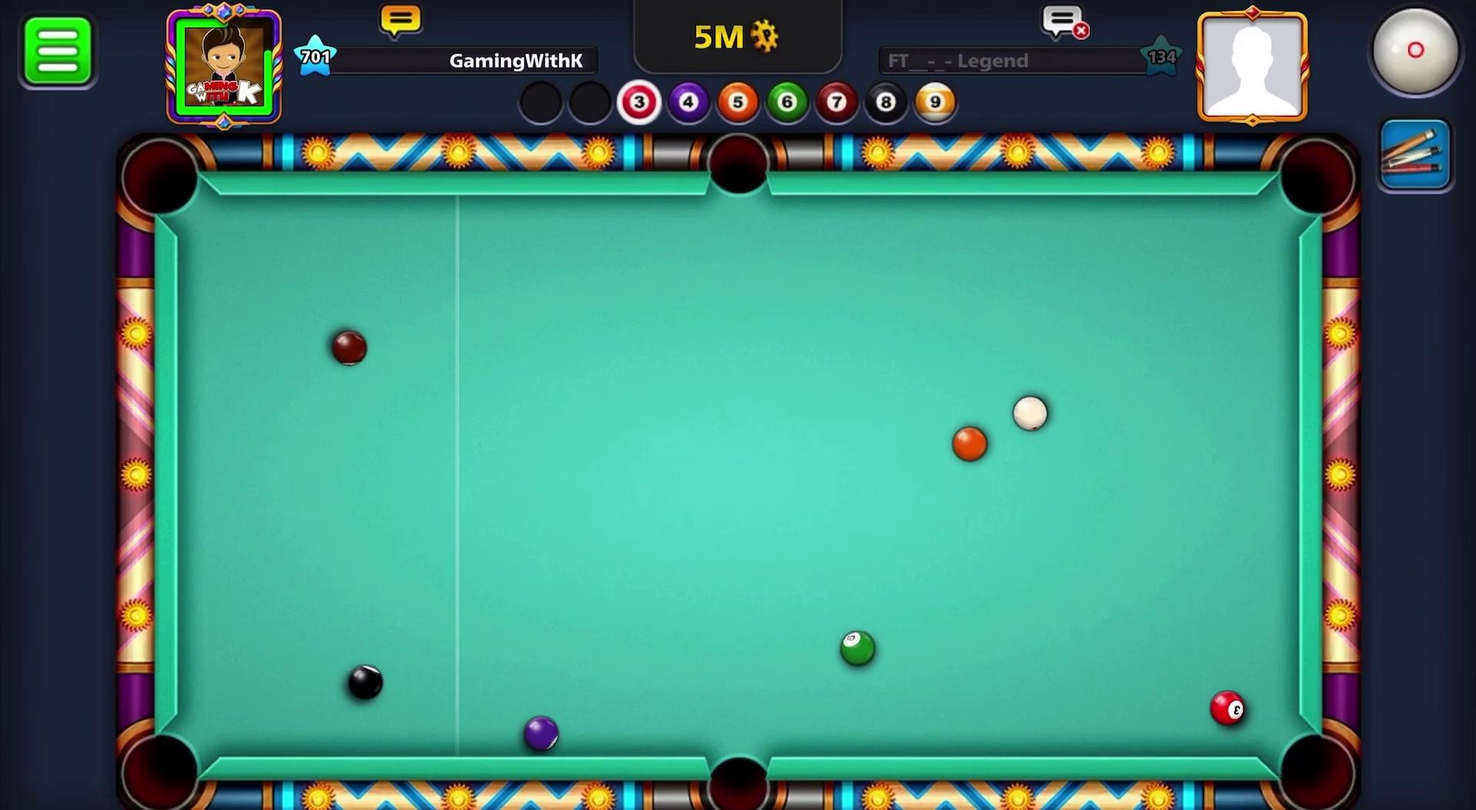Ball: (834, 626, 881, 673), (338, 662, 389, 703), (323, 327, 372, 367), (949, 421, 991, 464), (518, 713, 563, 753), (1209, 689, 1247, 724)
Hole: (108, 712, 220, 809), (1261, 712, 1365, 809), (1268, 132, 1364, 231), (112, 129, 208, 227), (686, 742, 788, 809), (701, 125, 776, 202)
Play_Area: (182, 194, 1302, 759)
Spin: (1352, 1, 1475, 113)
White: (1008, 389, 1055, 433)
